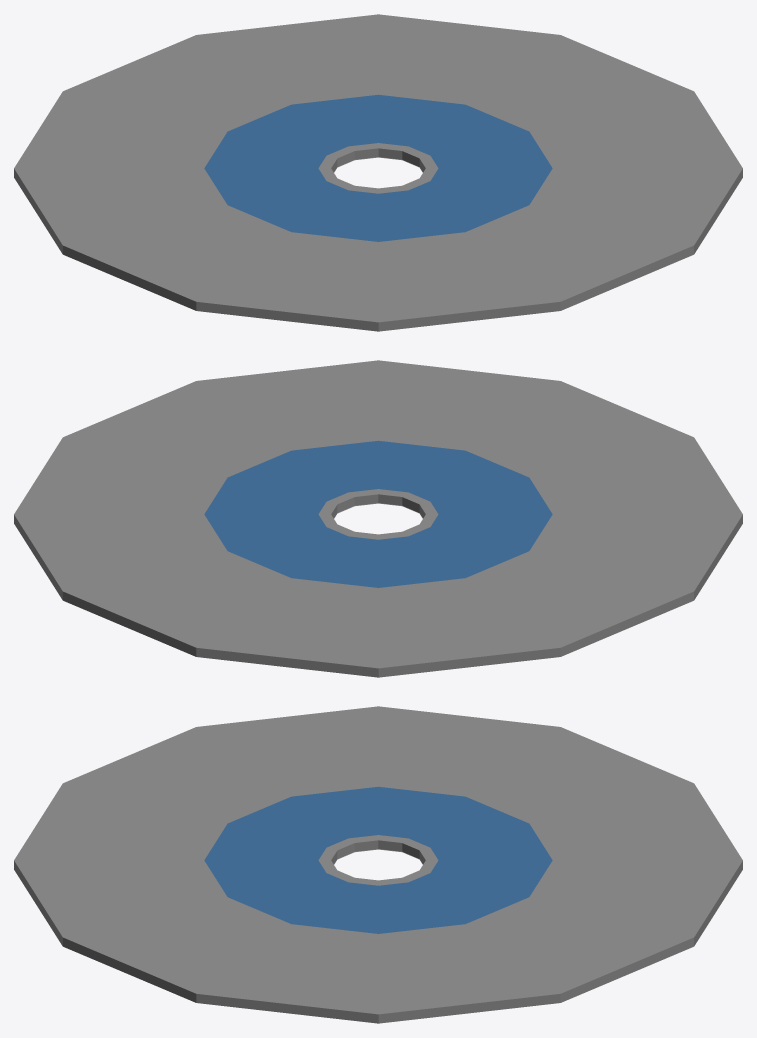
File: SM_DVD.fbx
3 renders of one model, top to bottom at view 1: azimuth 30°, elevation 25°; view 2: azimuth 150°, elevation 25°; view 3: azimuth 270°, elevation 25°, orthographic.
Parts seen in each view (by area): view 1: pCylinder1; view 2: pCylinder1; view 3: pCylinder1.
Part boxes in pixels (x1=…): pCylinder1: x1=14, y1=14, x2=742, y2=331; pCylinder1: x1=14, y1=360, x2=742, y2=677; pCylinder1: x1=14, y1=706, x2=742, y2=1023.
Bounding box in the file's own units: 7.94 × 0.1107 × 7.94.
